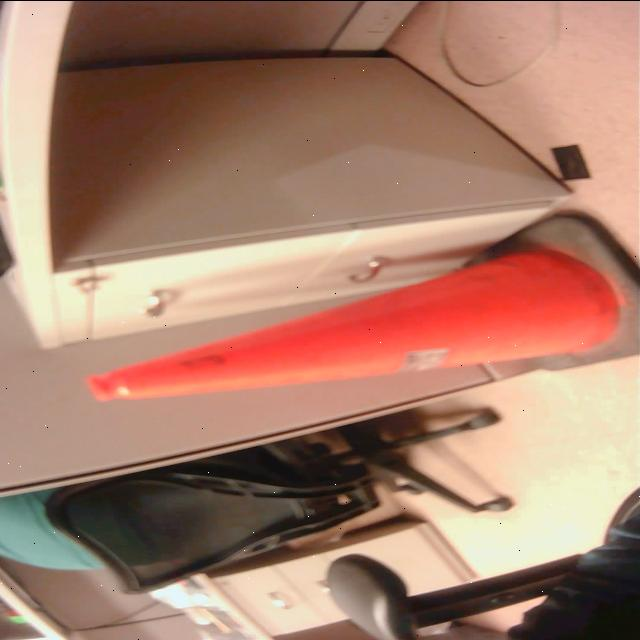traffic cone: (79, 206, 640, 408)
